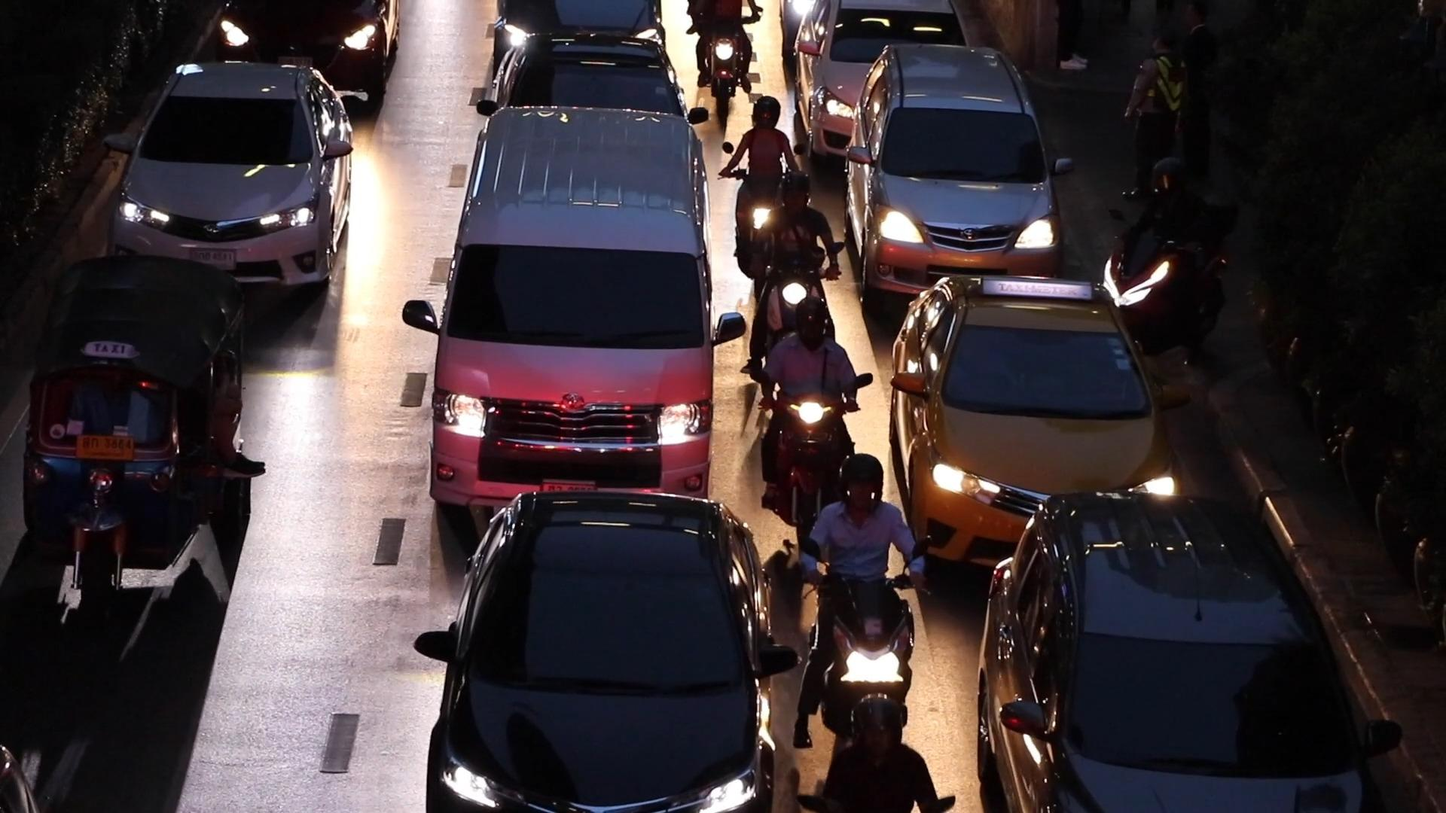driver: (793, 451, 933, 749), (749, 294, 874, 551), (1100, 156, 1242, 357), (740, 169, 846, 375), (717, 94, 805, 300), (685, 0, 763, 125)
helmet: (849, 694, 904, 761), (837, 452, 884, 515), (1150, 156, 1189, 210), (795, 295, 829, 346), (780, 170, 810, 213), (751, 95, 782, 132)
